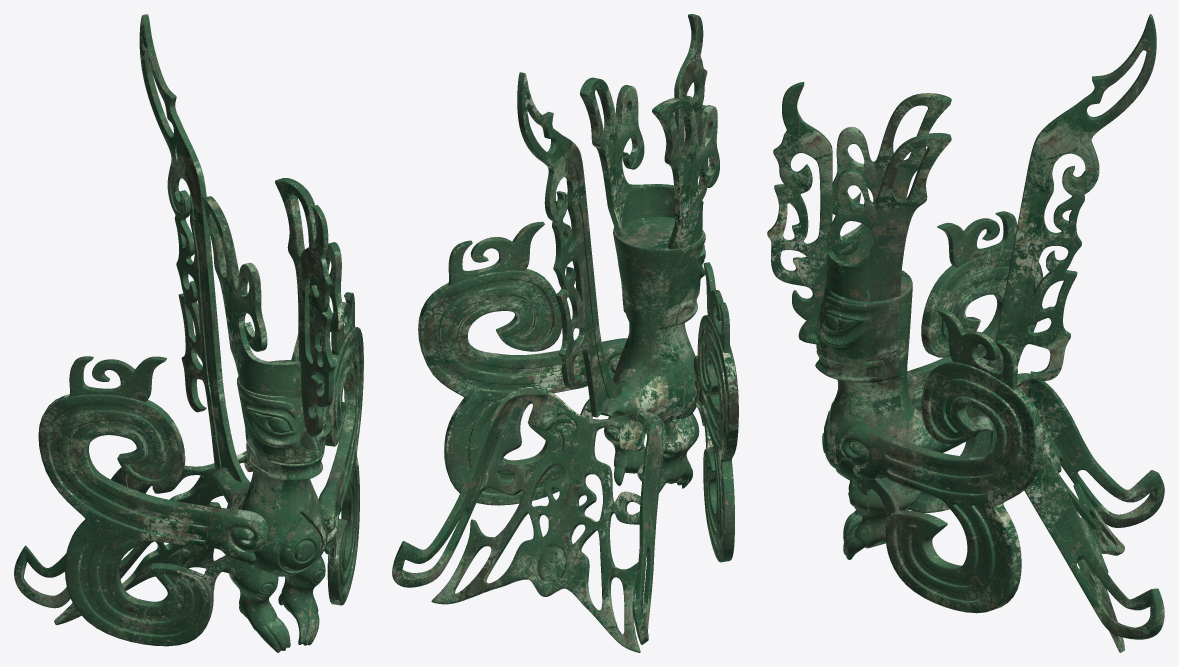
3 renders of one model, left to right at view 1: azimuth 30°, elevation 25°; view 2: azimuth 150°, elevation 25°; view 3: azimuth 270°, elevation 25°, orthographic. The views are drawn at different scales.
Parts seen in each view (by area): view 1: Cb; view 2: Cb; view 3: Cb.
Boxes of the visible parts, bbox=[...] form: Cb: bbox=[14, 14, 363, 652]; Cb: bbox=[392, 14, 738, 652]; Cb: bbox=[767, 14, 1164, 652].
Bounding box in the file's own units: 160 × 270 × 166.
Materials: 1 (1 with a texture image).
